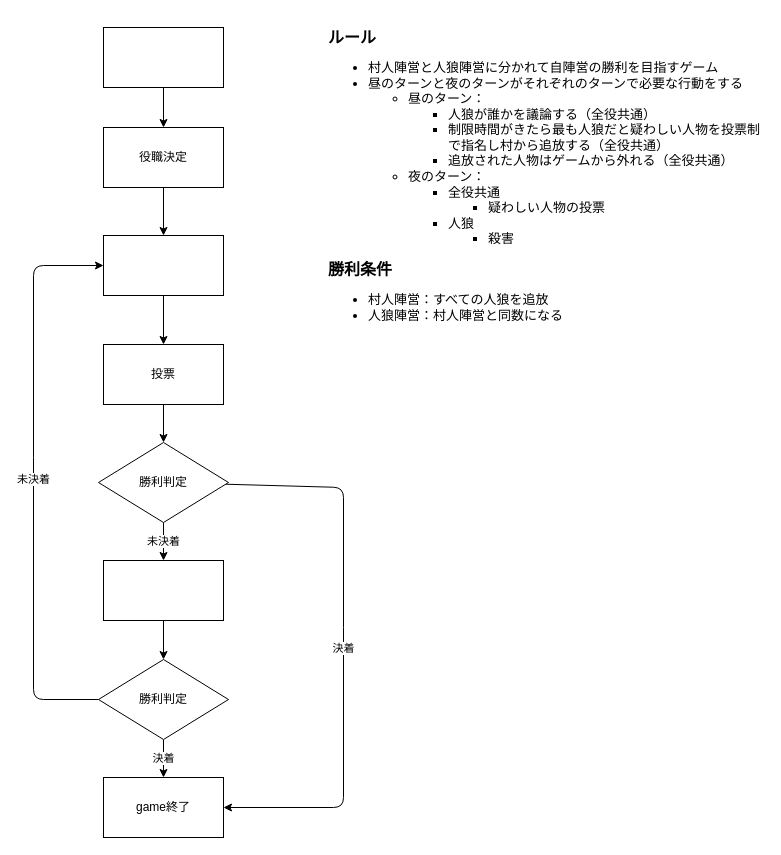
Some shapes in this 781 by 855 pixel diagram are drawn without their labels. Here are the shapes that lost their labels. From the top down, the centre of each, then its label:
At (163,57): "game設定".
At (163,265): "議論".
At (163,590): "夜の行動".
